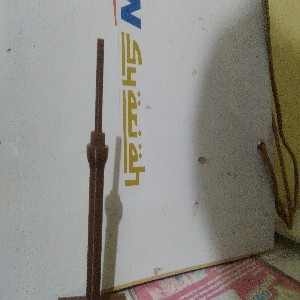obeng: (86, 38, 110, 300)
